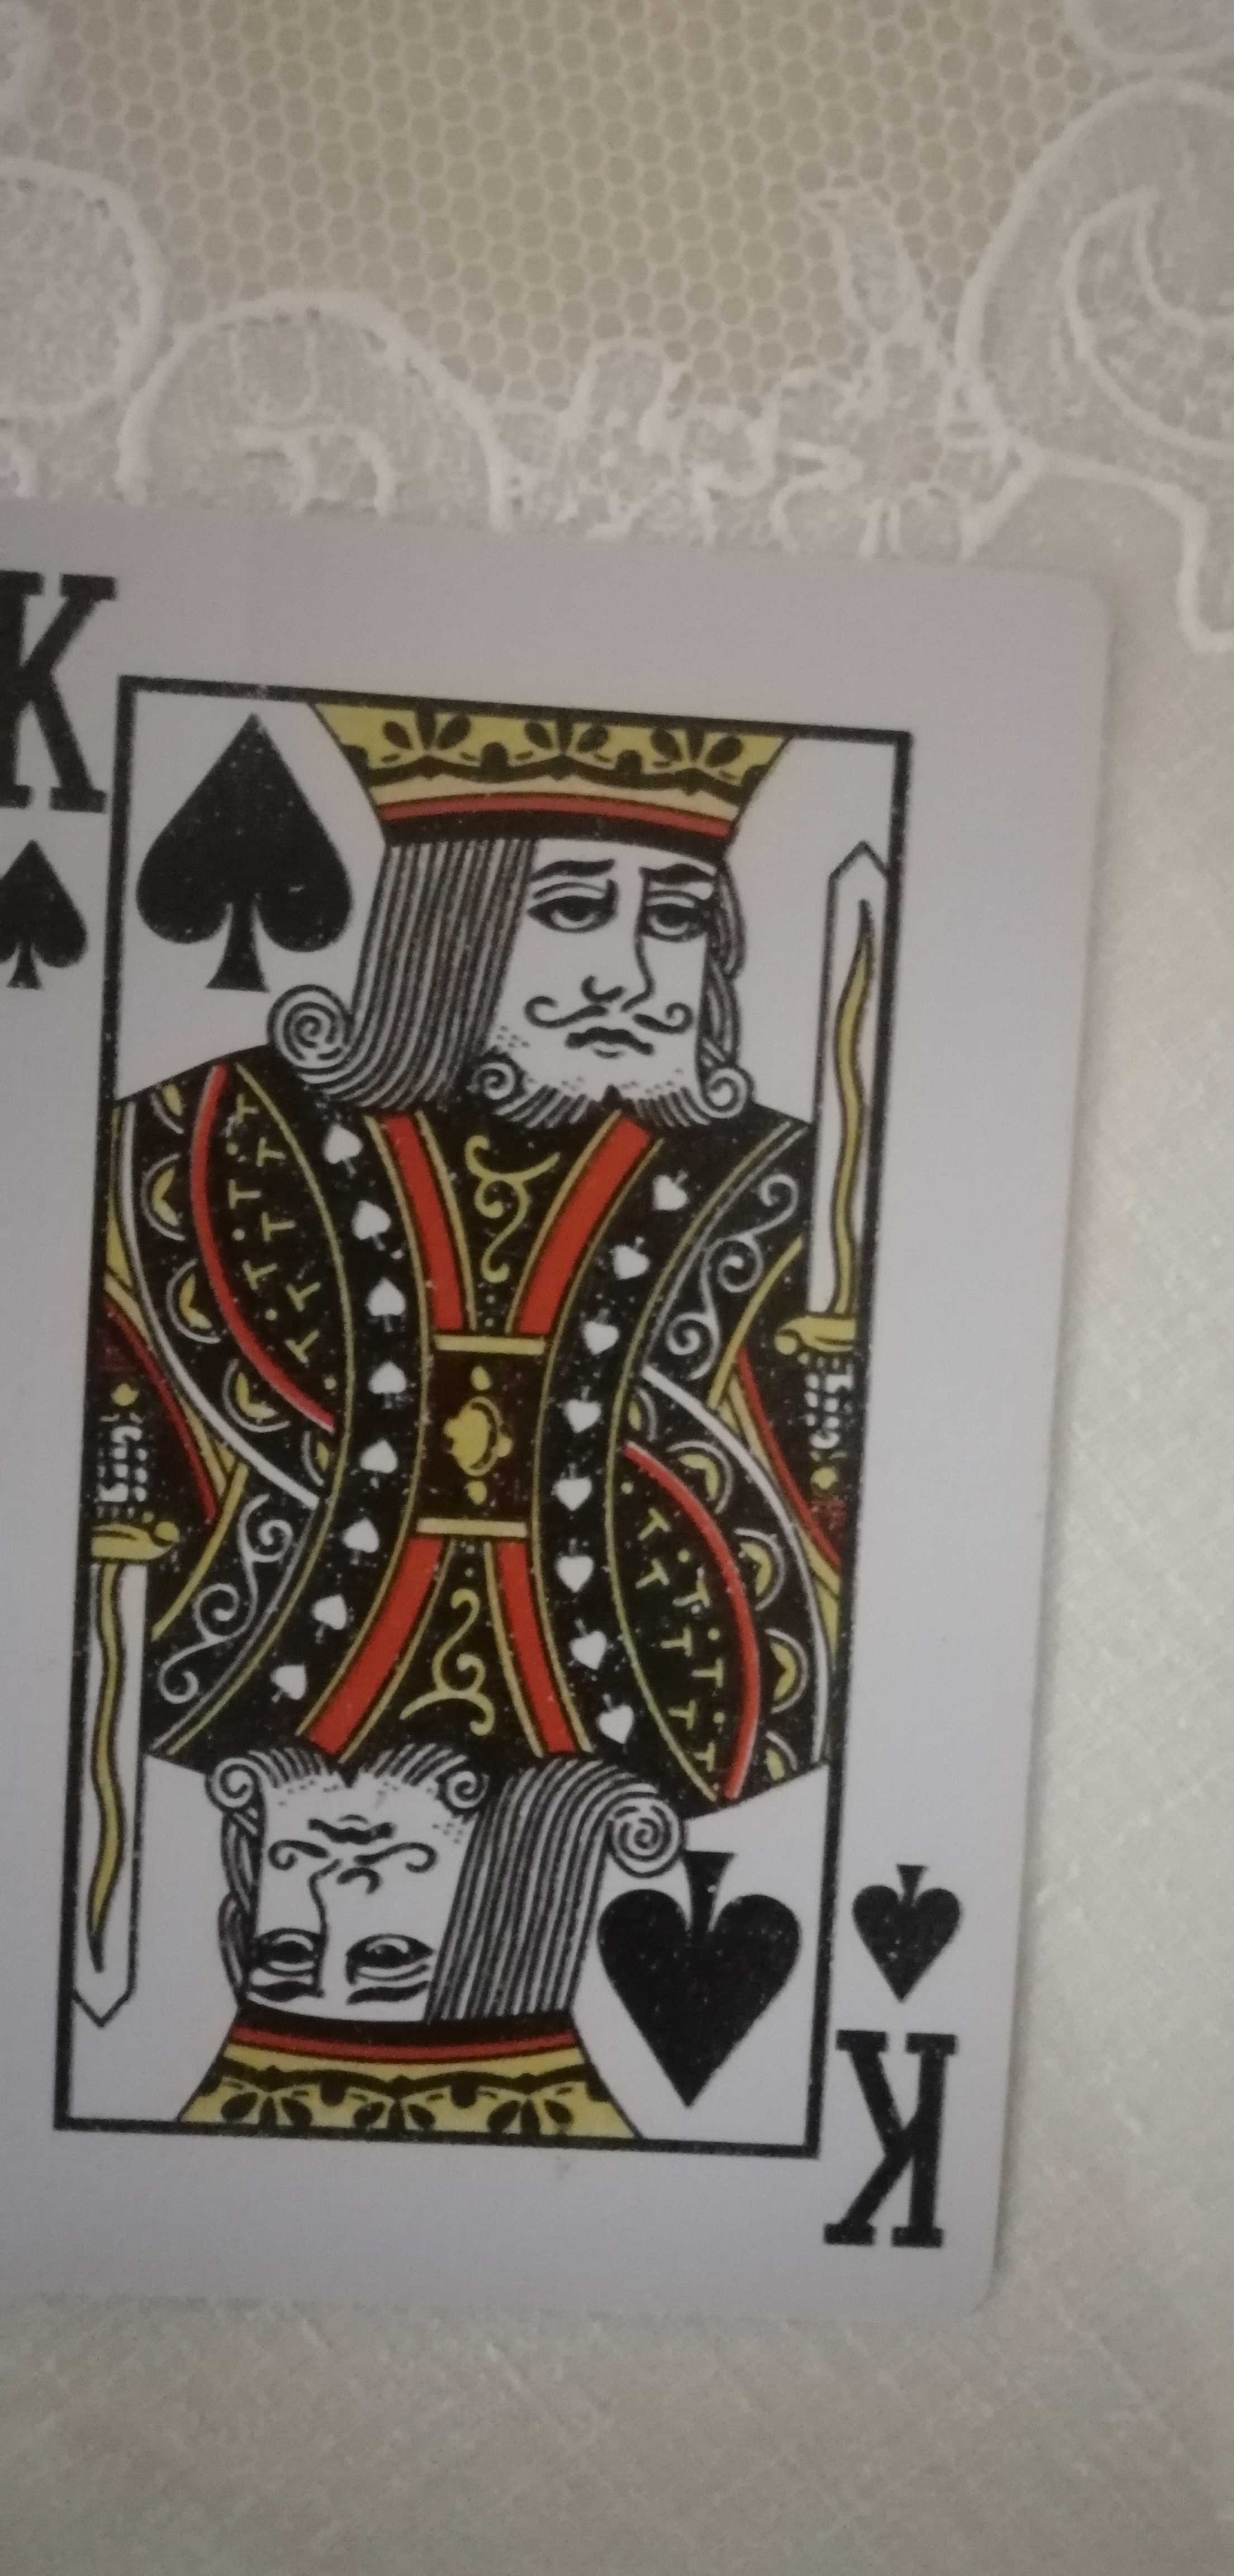king: (3, 452, 1053, 2334)
